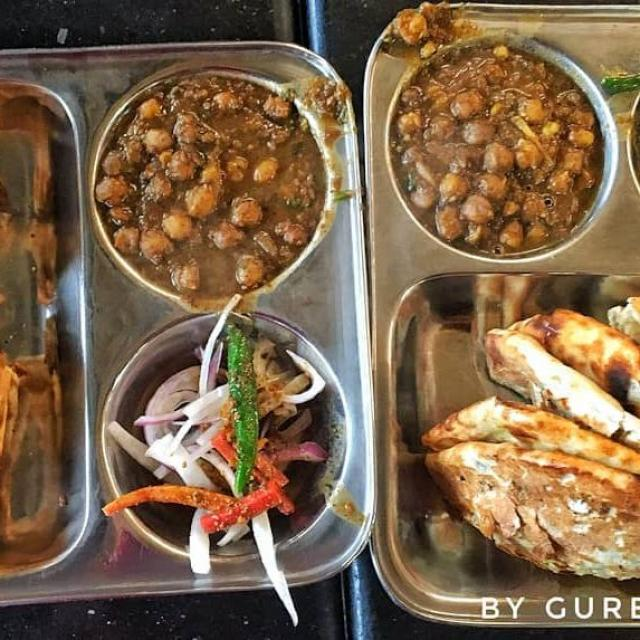Chole: (96, 78, 331, 300), (394, 54, 589, 257)
